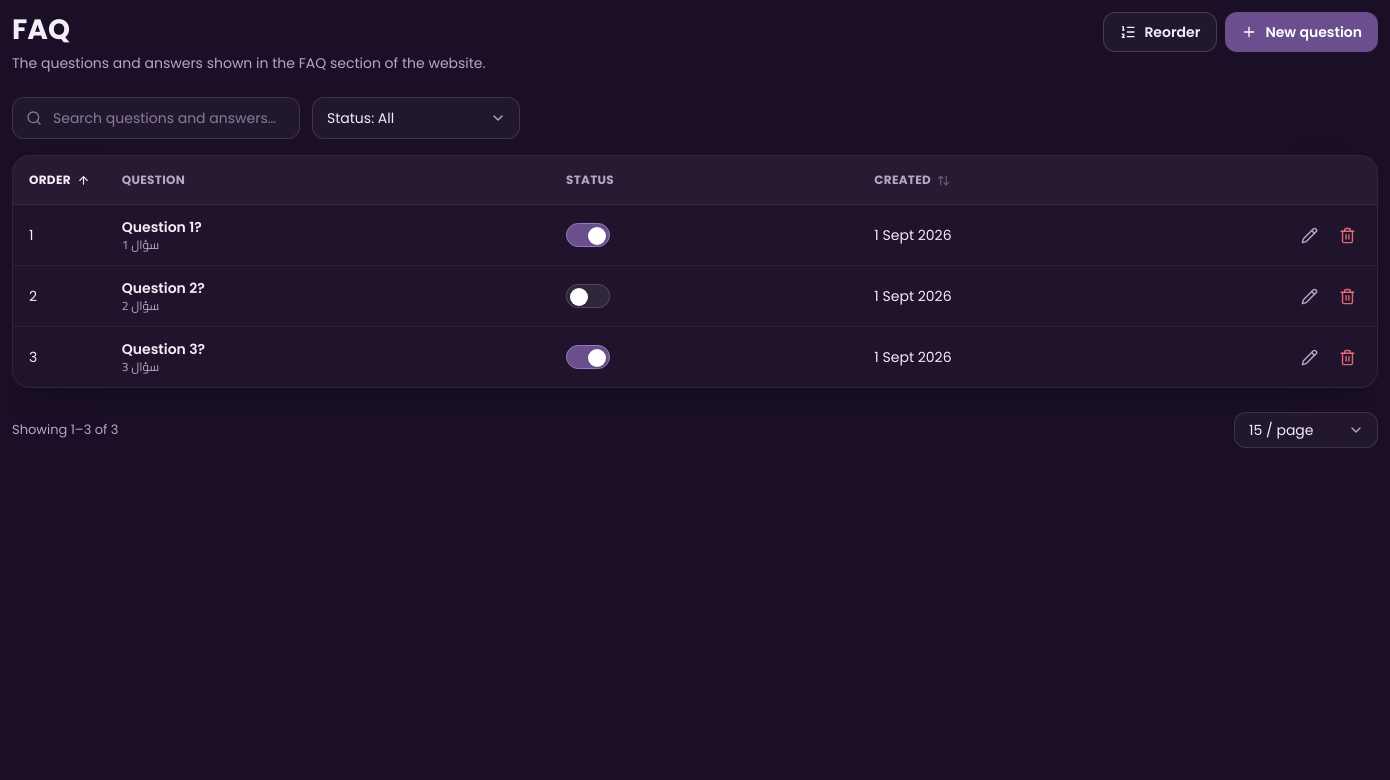
Test: FaqList › active toggle › sends only is_active and shows the saved toast
Expected: the text "Question 1?" is shown, [122,217,202,237]
Click the switch named "Active: Question 1?": (588, 235) [566,223,610,247]
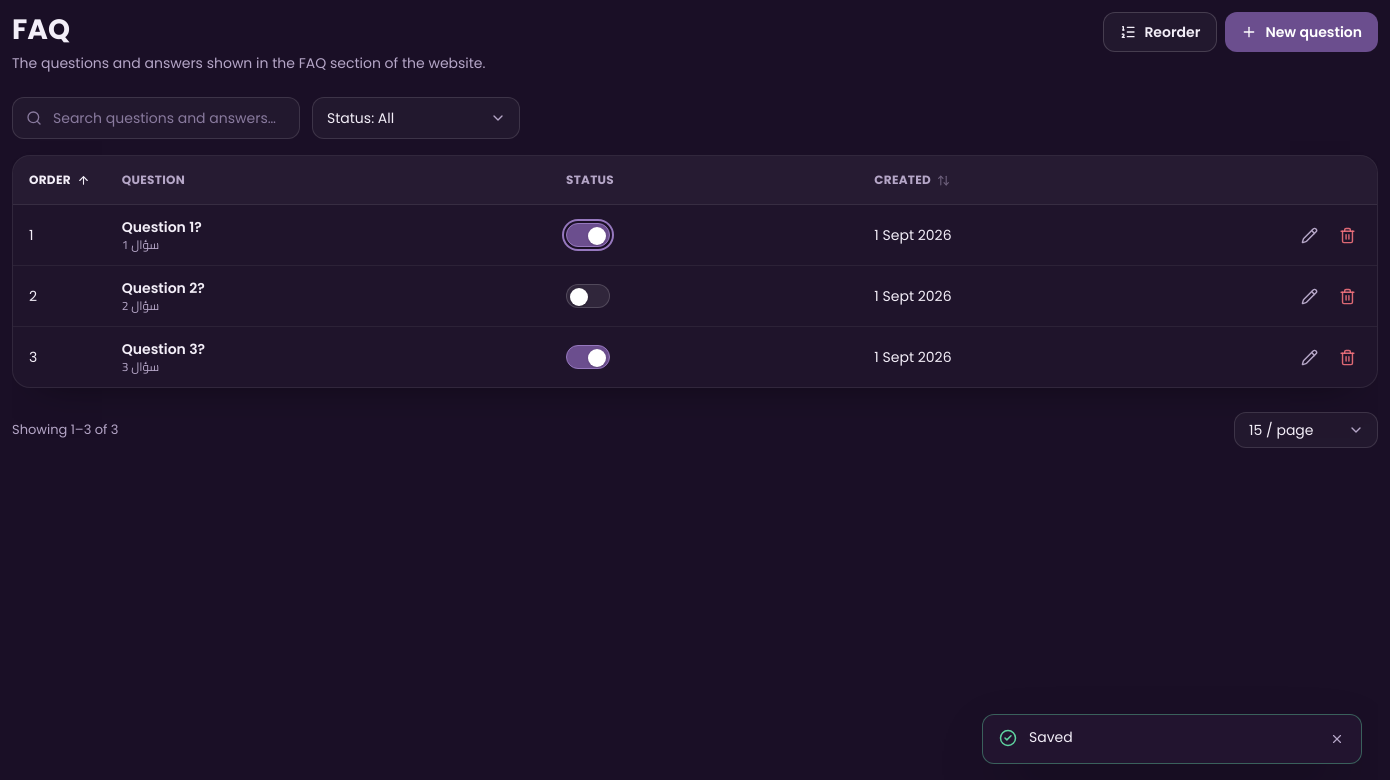
Now the text "Saved" is shown, box [1029,727,1073,747]
